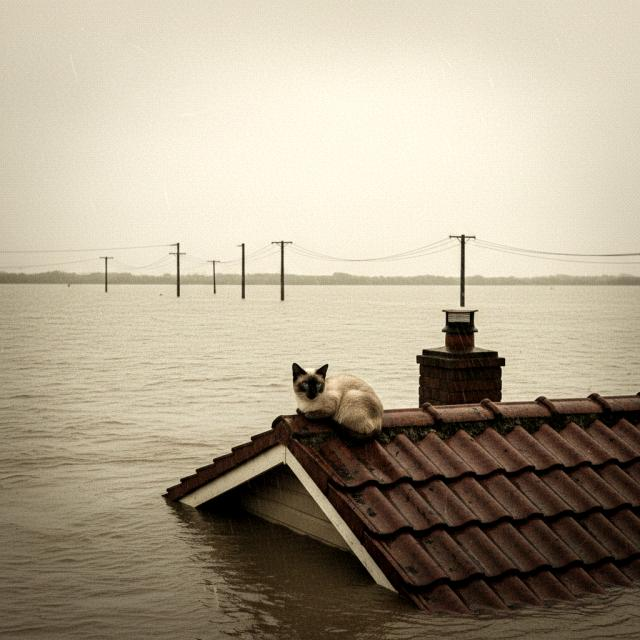cat: (277, 354, 399, 444)
